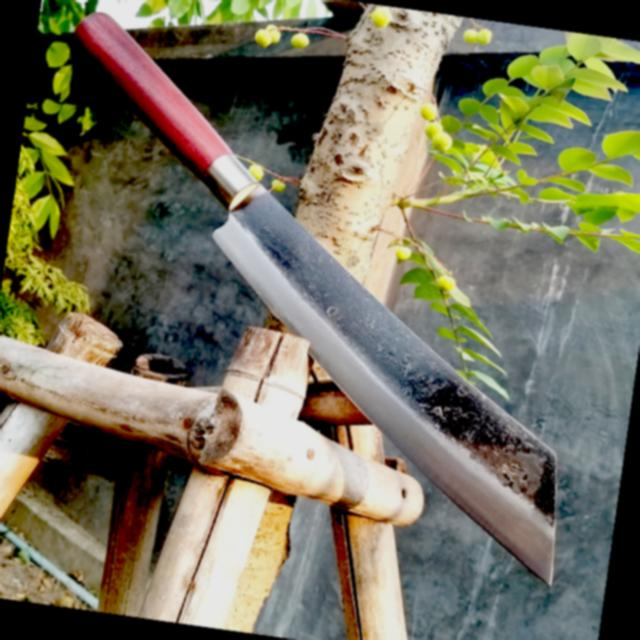eto: (71, 4, 569, 581)
